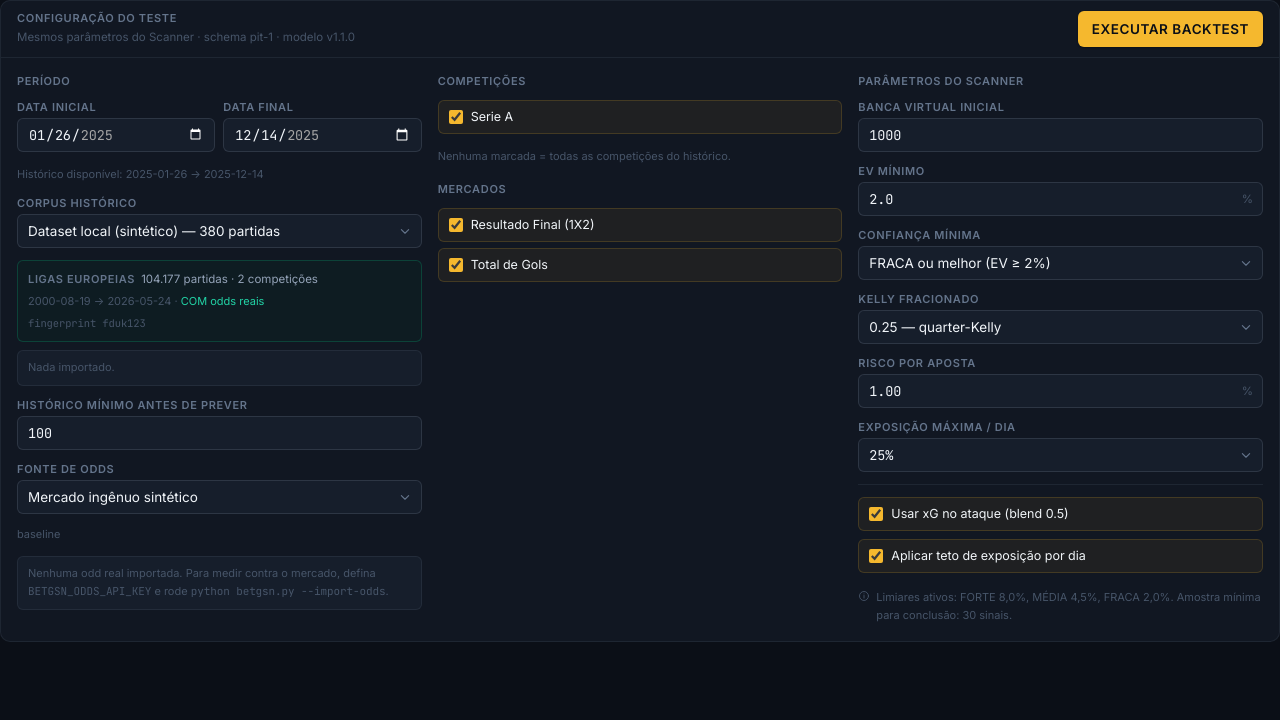
BacktestConfigPanel — odds reais (football-data.co.uk) › só mostra o filtro de bookmakers quando a fonte é o CSV
Expected: the text "Momento da linha" is not shown
Select "Odds reais — football-data.co.uk" in the dropdown labelled "Fonte de odds" at (219, 497), box [17,480,422,514]
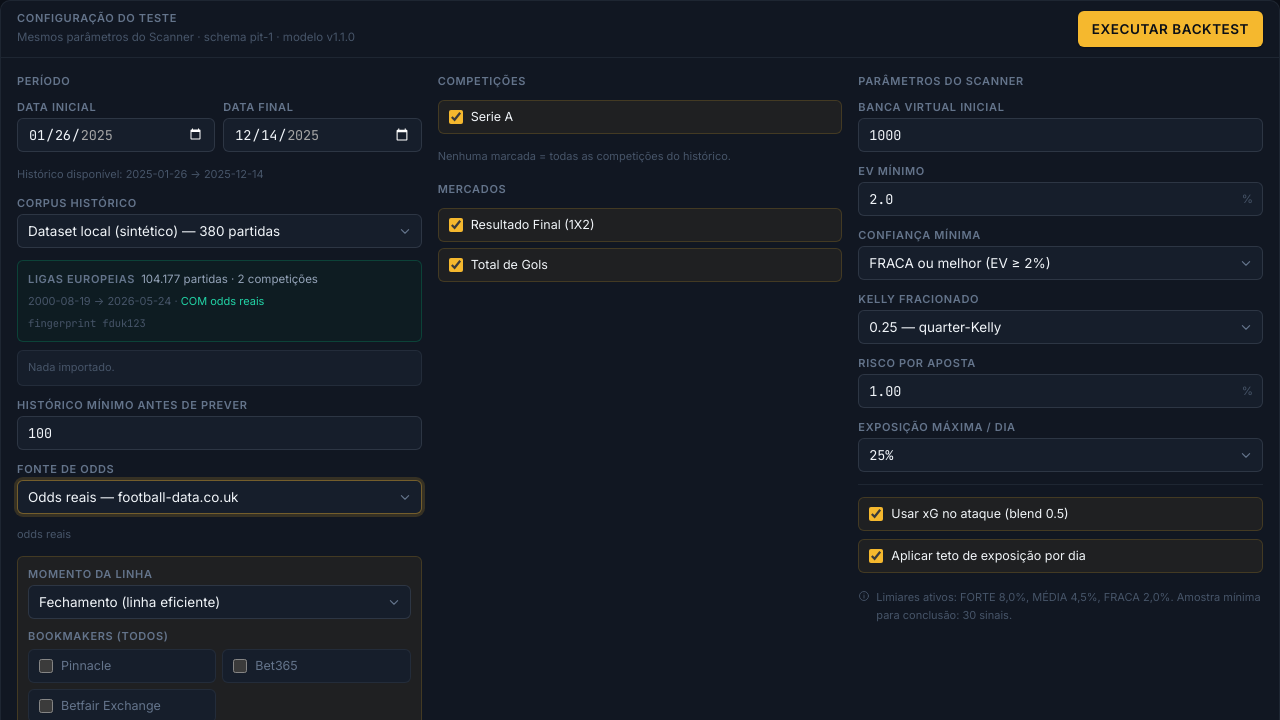
Expected: the text "Momento da linha" is shown, [28,567,153,581]
Expected: the checkbox labelled "Pinnacle" is shown, [39,659,53,673]
